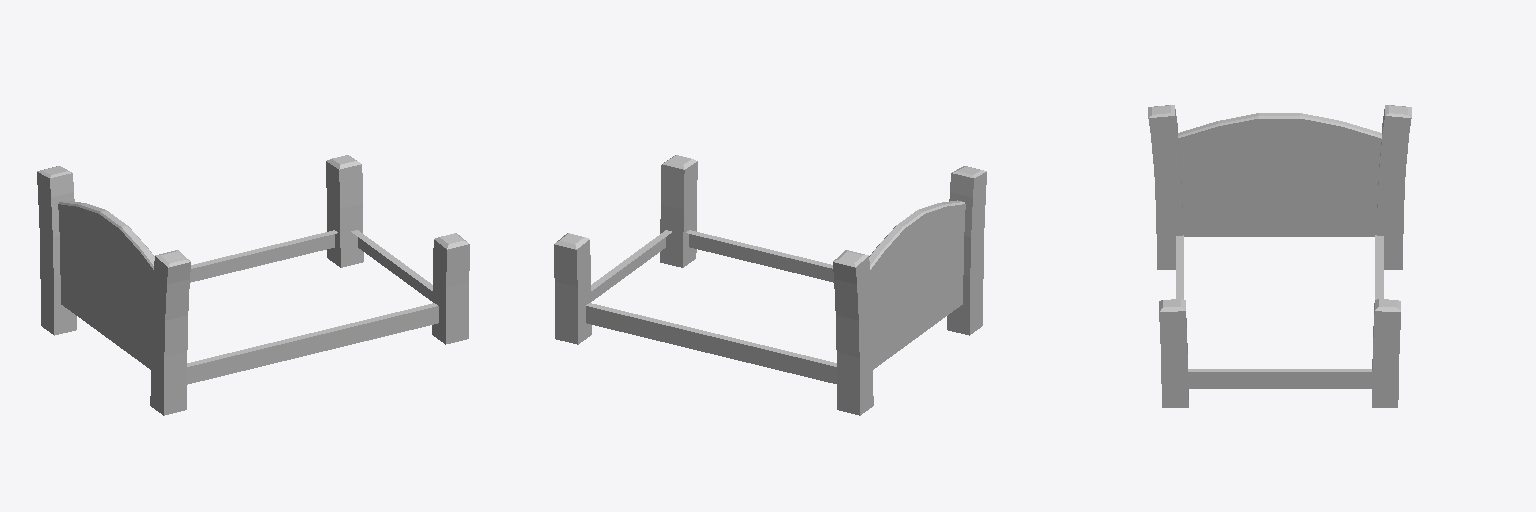
File: Estrutura.obj
3 views of the same model, side by side, from view 1: azimuth 30°, elevation 25°; view 2: azimuth 150°, elevation 25°; view 3: azimuth 270°, elevation 25° (orthographic).
Visible parts, largest first — view 1: Bedwood; view 2: Bedwood; view 3: Bedwood.
Part boxes in pixels (x1,y1,x2,y2): Bedwood: (37, 155, 469, 415); Bedwood: (554, 155, 986, 415); Bedwood: (1148, 105, 1411, 407).
Bounding box in the file's own units: 6.49 × 3.12 × 4.81.